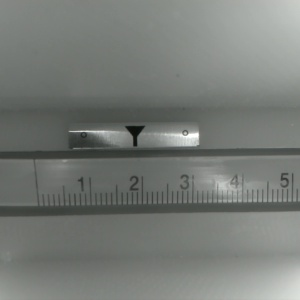1: (76, 177, 84, 192)
2: (128, 175, 138, 191)
3: (179, 173, 188, 189)
4: (228, 175, 238, 188)
5: (279, 172, 289, 188)
finger: (123, 126, 145, 148)
